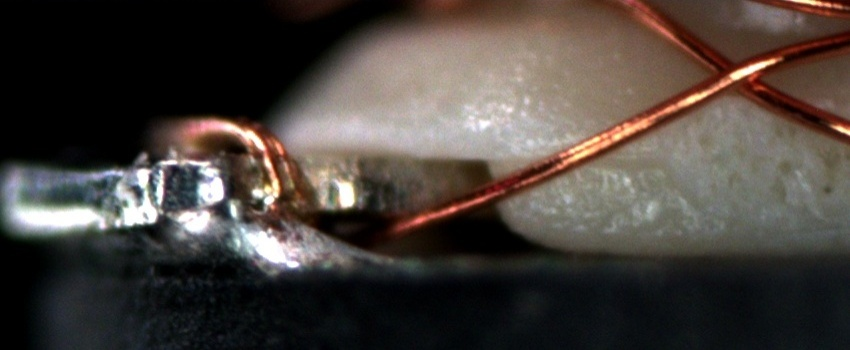CL: (685, 44, 785, 104)
DL: (516, 123, 666, 189)
TE: (161, 109, 311, 206)
